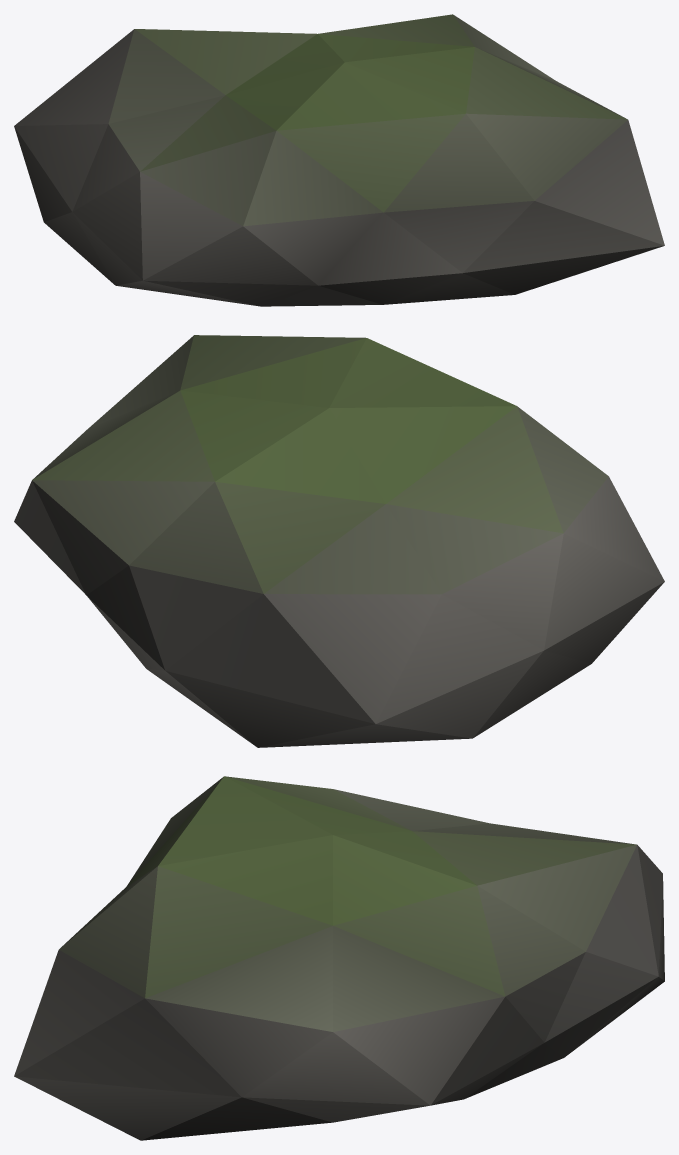
Rendered from rock3.glb.
3 renders of one model, top to bottom at view 1: azimuth 30°, elevation 25°; view 2: azimuth 150°, elevation 25°; view 3: azimuth 270°, elevation 25°, orthographic. The views are drawn at different scales.
Parts seen in each view (by area): view 1: rock3; view 2: rock3; view 3: rock3.
Part boxes in pixels (x1=…): rock3: x1=14, y1=14, x2=664, y2=306; rock3: x1=14, y1=335, x2=664, y2=747; rock3: x1=14, y1=776, x2=664, y2=1140.
Size of the model in its own units: 1.94 by 0.7152 by 2.
